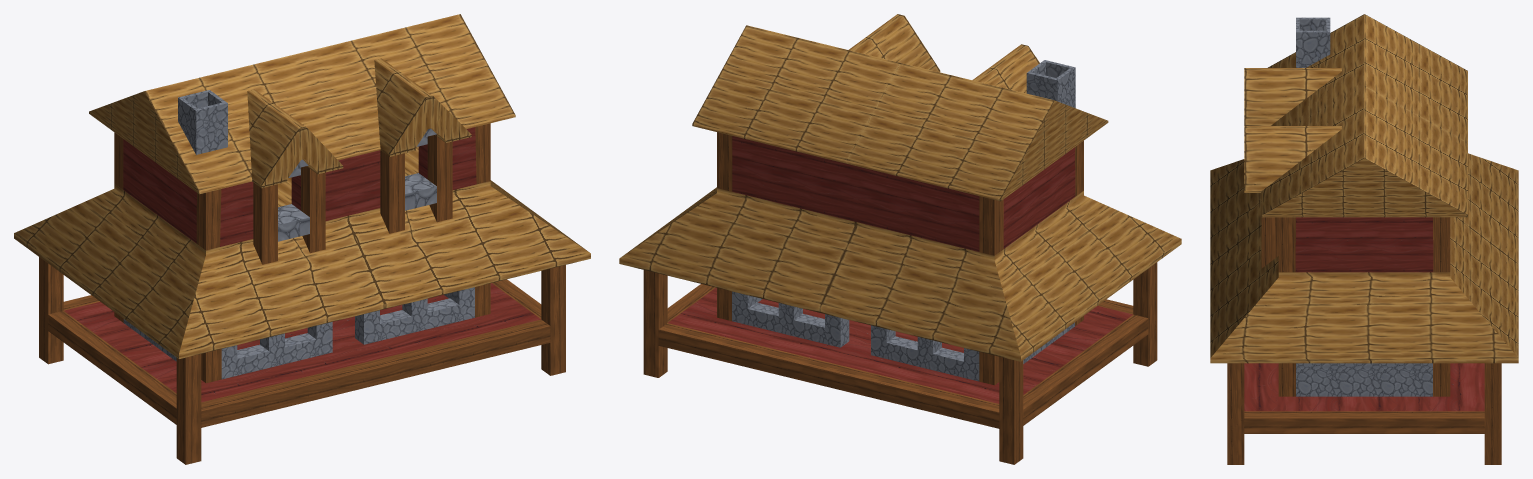
Rendered from FarmHouse.FBX.
The picture shows the model from 3 angles, left to right: view 1: azimuth 30°, elevation 25°; view 2: azimuth 150°, elevation 25°; view 3: azimuth 270°, elevation 25°; orthographic projection. The views are drawn at different scales.
Parts seen in each view (by area): view 1: FarmHouse, Box001; view 2: FarmHouse, Box001; view 3: FarmHouse, Box001.
Part boxes in pixels (x1,y1,x2,y2): FarmHouse: [14, 14, 590, 464]; Box001: [178, 90, 227, 154]; FarmHouse: [619, 14, 1181, 464]; Box001: [1026, 60, 1075, 108]; FarmHouse: [1210, 14, 1518, 464]; Box001: [1296, 17, 1330, 67].
Size of the model in its own units: 259 by 190 by 180.
Materials: 4 (4 with a texture image).
